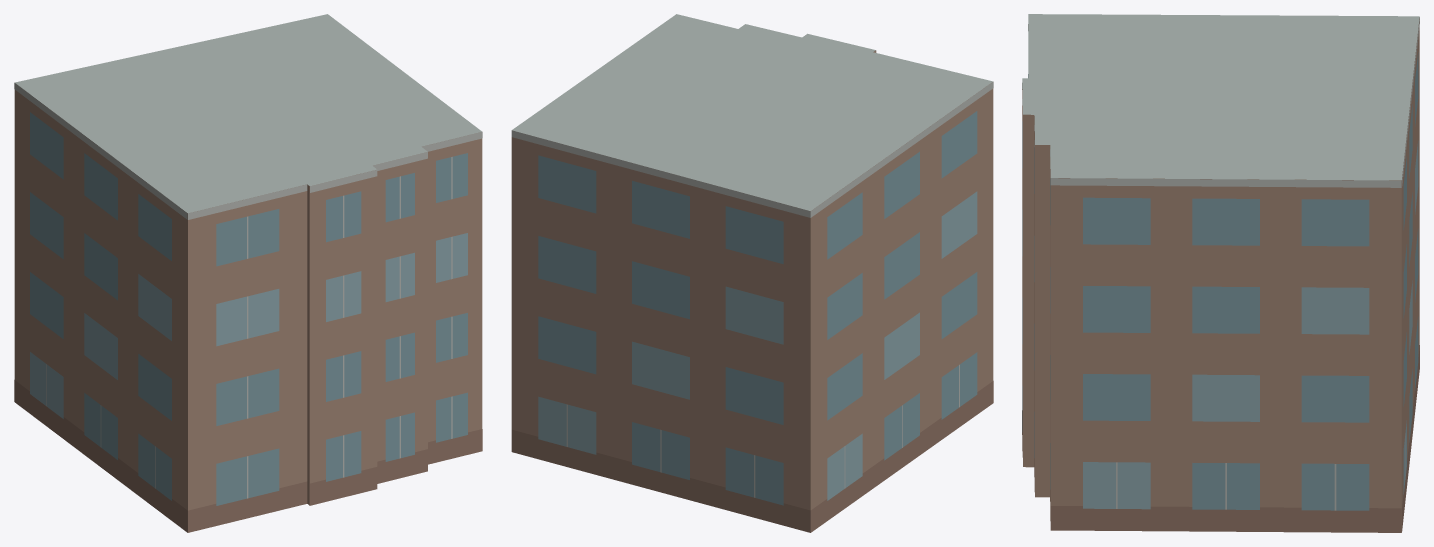
Rendered from survey-upis-32972569.glb.
The picture shows the model from 3 angles, left to right: view 1: azimuth 30°, elevation 25°; view 2: azimuth 150°, elevation 25°; view 3: azimuth 270°, elevation 25°; orthographic projection. The views are drawn at different scales.
Parts seen in each view (by area): view 1: survey-upis-32972569.tmp; view 2: survey-upis-32972569.tmp; view 3: survey-upis-32972569.tmp.
Part boxes in pixels (left/top/right/bottom): survey-upis-32972569.tmp: left=14, top=14, right=482, bottom=532; survey-upis-32972569.tmp: left=511, top=14, right=993, bottom=532; survey-upis-32972569.tmp: left=1022, top=14, right=1419, bottom=532.
Bounding box in the file's own units: 11.71 × 11.55 × 11.82.
